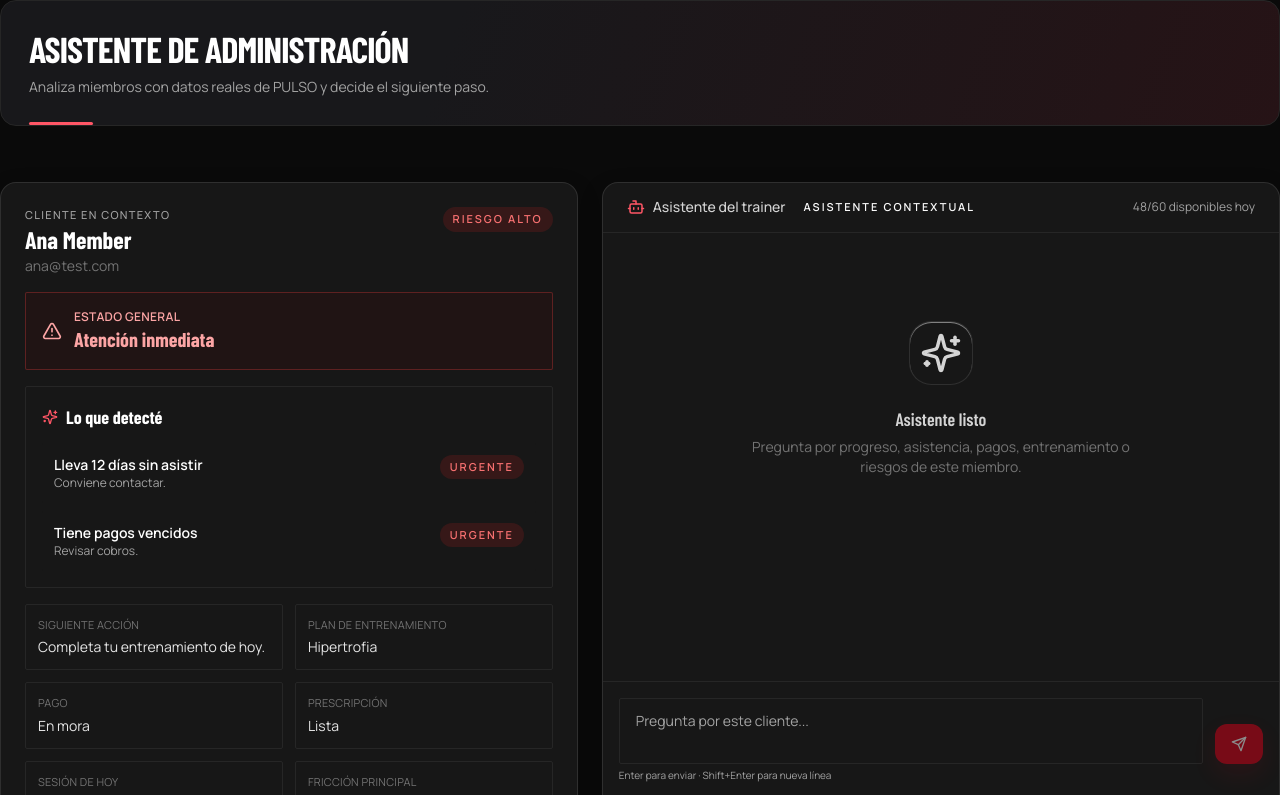
Test: AiChatPage › renders a sendable trainer message and sends it to the member
Later steps or results of the test are not shown.
Expected: the heading "Asistente de administración" is shown, [29,27,408,70]
Expected: the element with test id "trainer-assistant-status" shows "Atención inmediata", [74,326,214,350]
In the text box with test id "chat-input": x=911, y=730 [619,698,1203,764], type "Escribe un mensaje corto para este cliente"
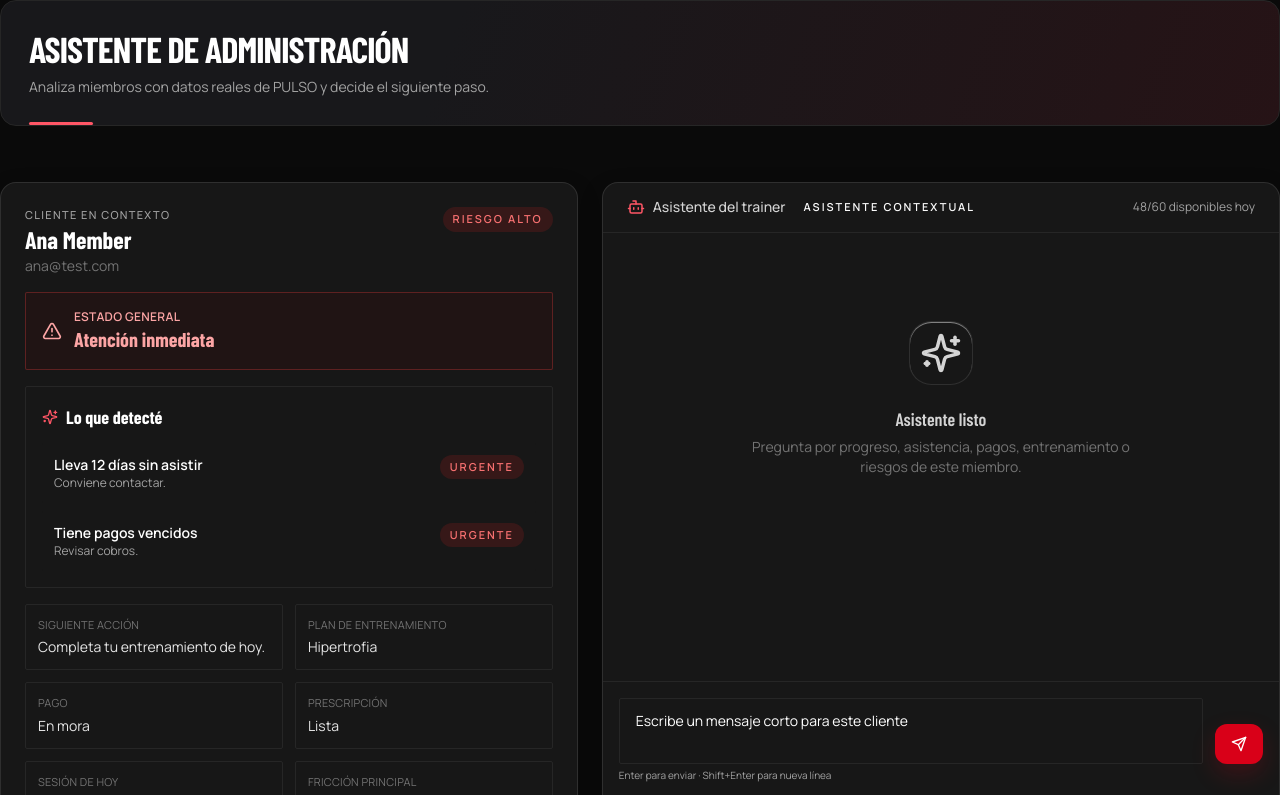
Click the button with test id "chat-send": x=1239, y=744 [1215,724,1263,764]
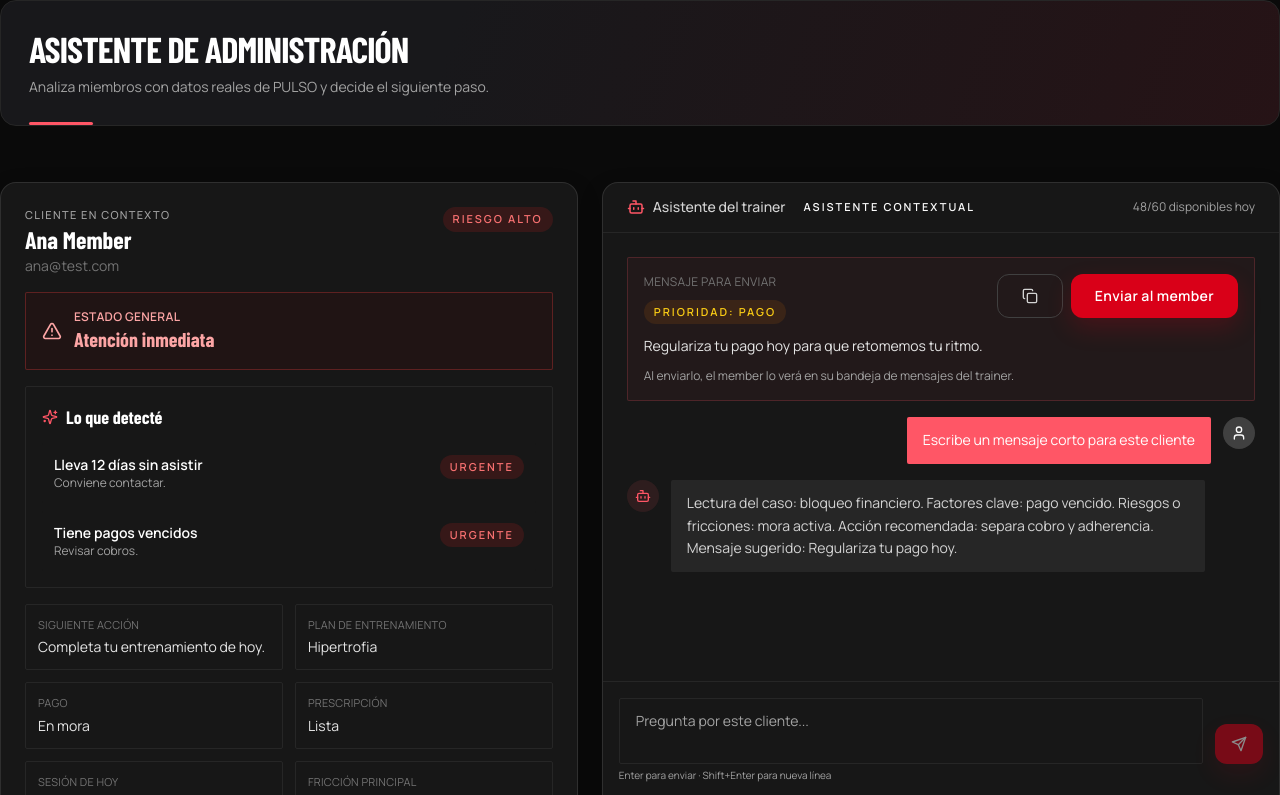
Now the element with test id "sendable-message-card" is shown, box [627,256,1255,401]
Now the text "Regulariza tu pago hoy para que retomemos tu ritmo." is shown, box [644,336,983,355]
Now the text "Al enviarlo, el member lo verá en su bandeja de mensajes del trainer." is shown, box [644,367,1014,384]
